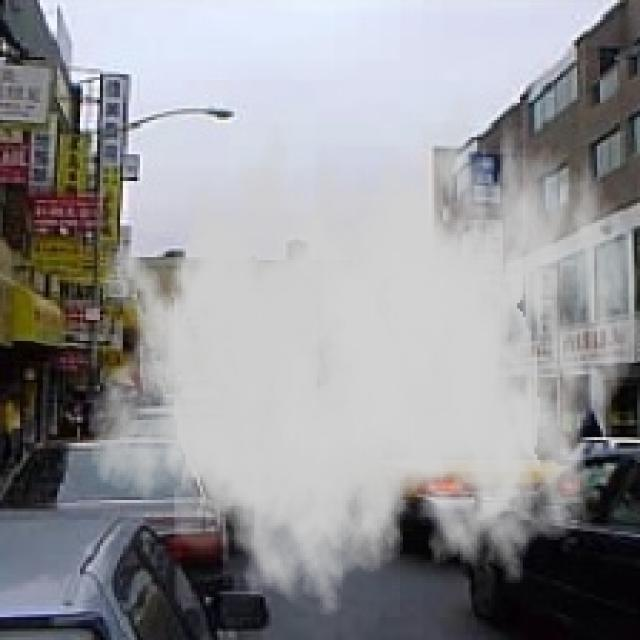smoke: (86, 66, 637, 628)
